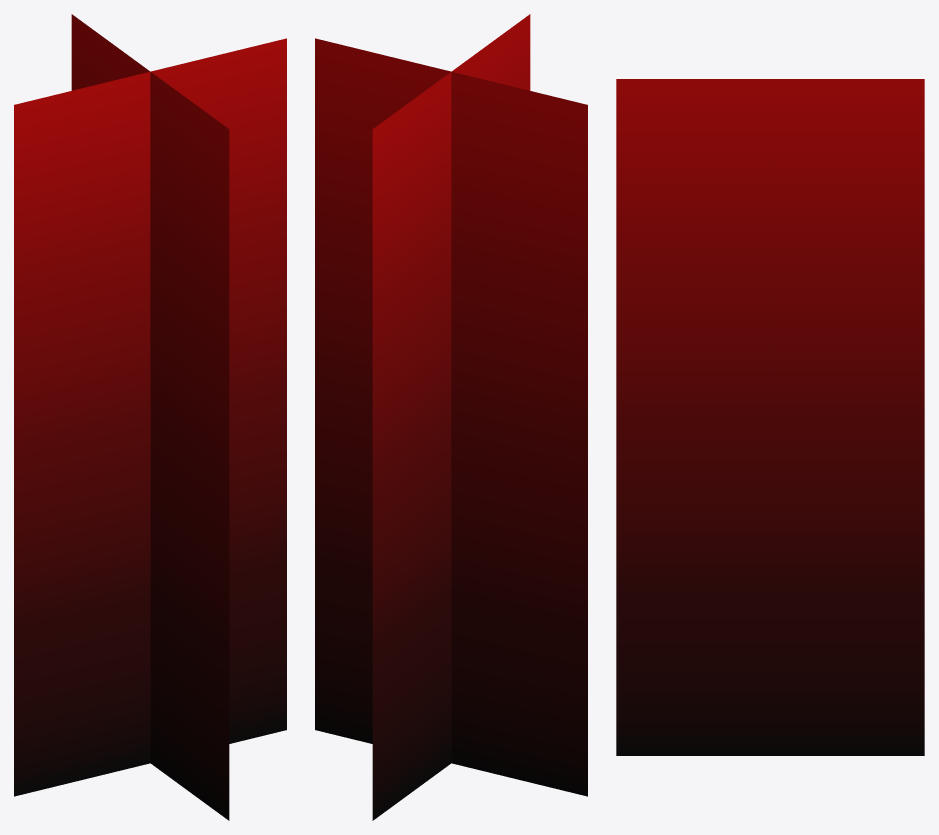
The model's file is Flower01.glb.
3 views of the same model, side by side, from view 1: azimuth 30°, elevation 25°; view 2: azimuth 150°, elevation 25°; view 3: azimuth 270°, elevation 25° (orthographic). The views are drawn at different scales.
Visible parts, largest first — view 1: Flower01_LOD0; view 2: Flower01_LOD0; view 3: Flower01_LOD0.
Boxes of the visible parts, x1=… form: Flower01_LOD0: x1=14, y1=14, x2=286, y2=820; Flower01_LOD0: x1=315, y1=14, x2=587, y2=820; Flower01_LOD0: x1=616, y1=79, x2=924, y2=755.
Size of the model in its own units: 0.1797 by 0.4354 by 0.1797.
